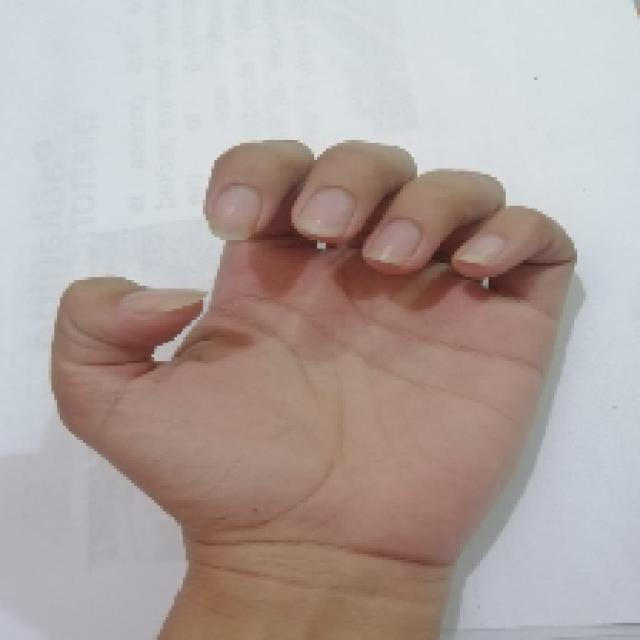Nail: (294, 188, 355, 239), (210, 185, 261, 240), (364, 219, 421, 266), (120, 289, 204, 314), (454, 234, 506, 266)
